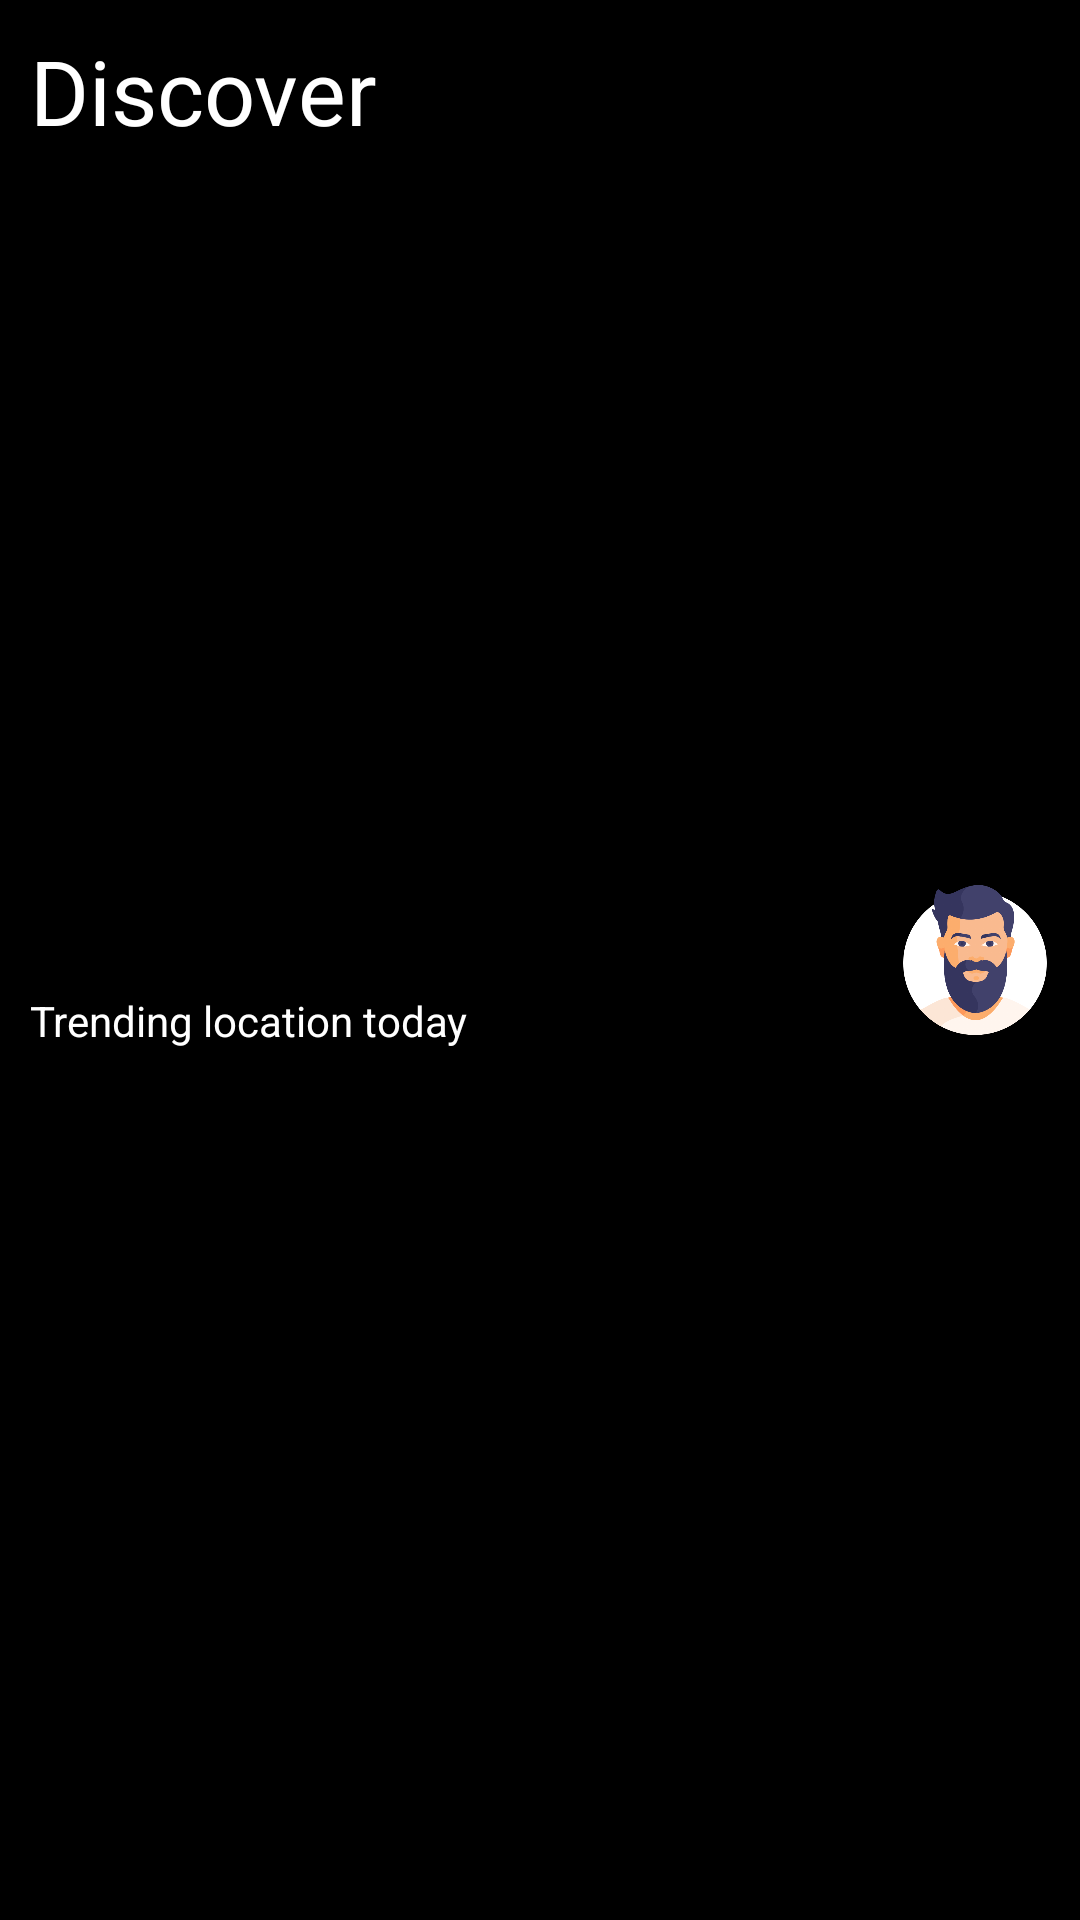

Icons on this 1080x1920 Android screen, each with its box as (x1, y1, x2, y2):
man: (903, 885, 1047, 1035)
